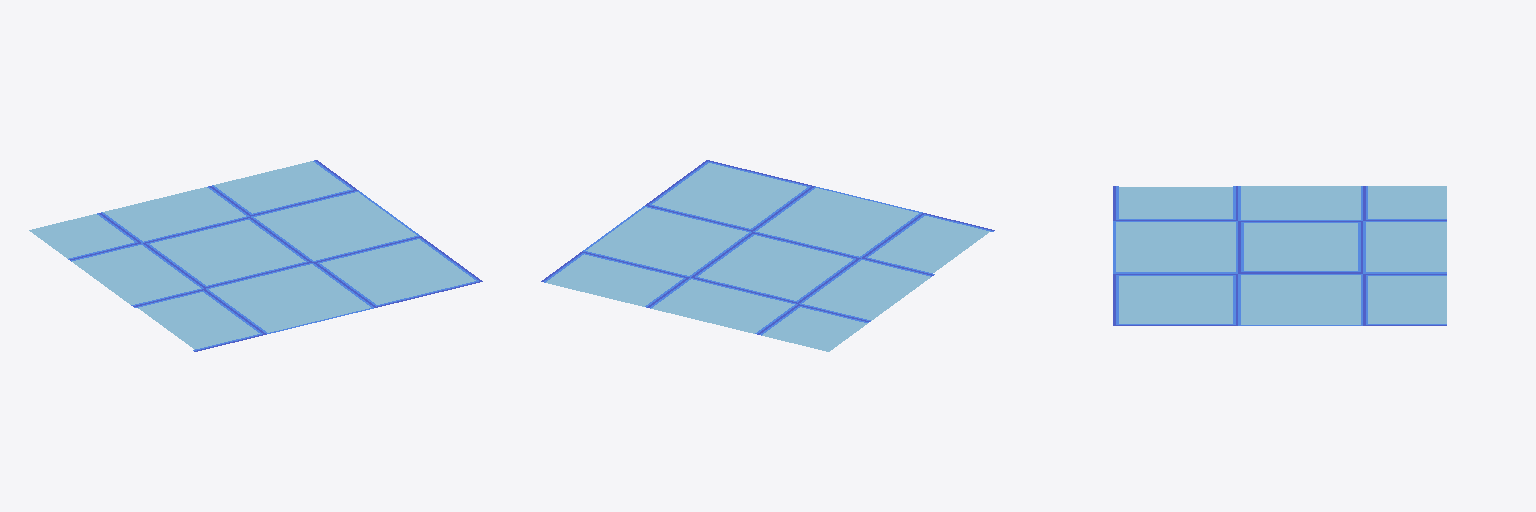
3 views of the same model, side by side, from view 1: azimuth 30°, elevation 25°; view 2: azimuth 150°, elevation 25°; view 3: azimuth 270°, elevation 25° (orthographic).
Parts seen in each view (by area): view 1: 平面; view 2: 平面; view 3: 平面.
Part boxes in pixels (x1,y1,x2,y2): 平面: (29, 160, 482, 351); 平面: (541, 160, 994, 351); 平面: (1113, 186, 1446, 325).
Size of the model in its own units: 7.37 by 0 by 7.37.
Materials: 1 (1 with a texture image).